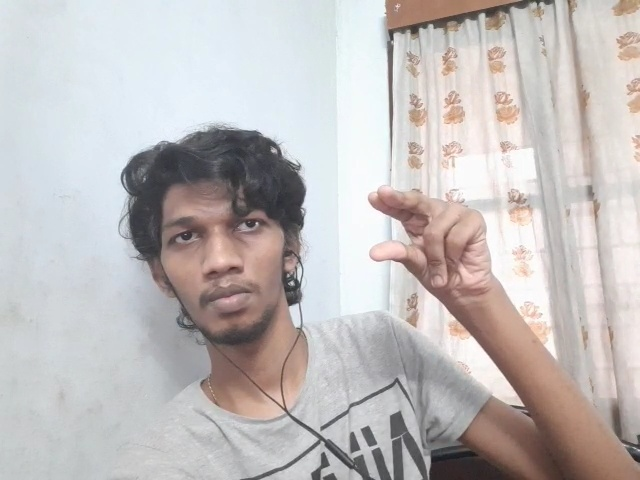No: (367, 184, 495, 298)
